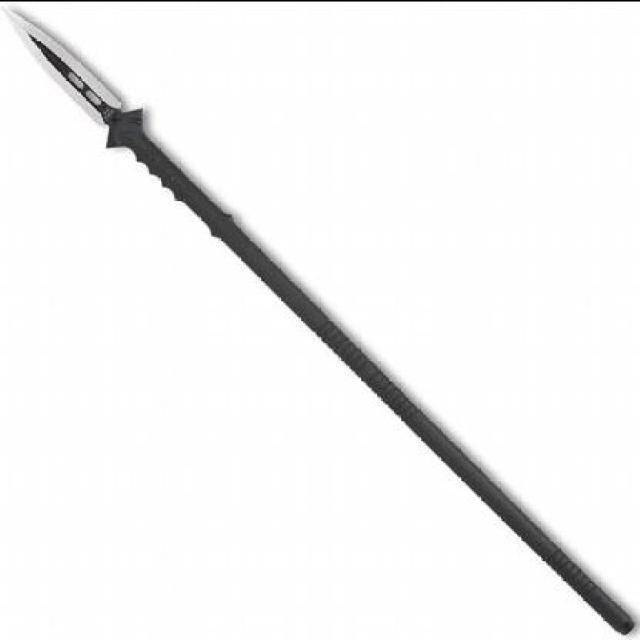weapon: (2, 6, 634, 636)
